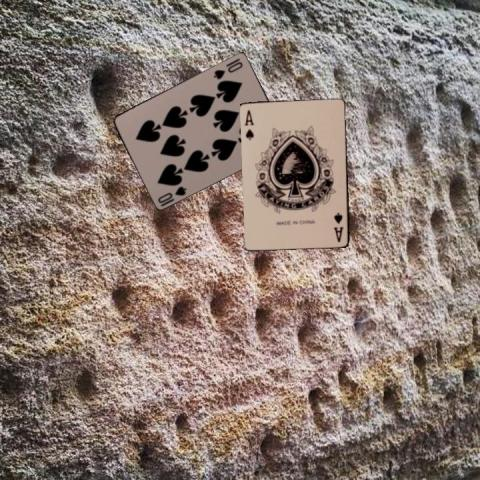10s: (155, 183, 188, 207), (211, 59, 244, 80)
As: (331, 210, 345, 243), (242, 108, 255, 142)
